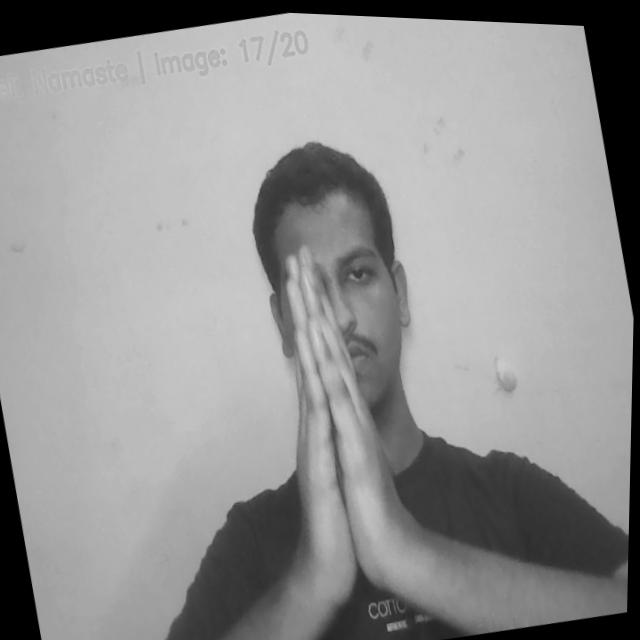Namaste: (269, 238, 417, 609)
